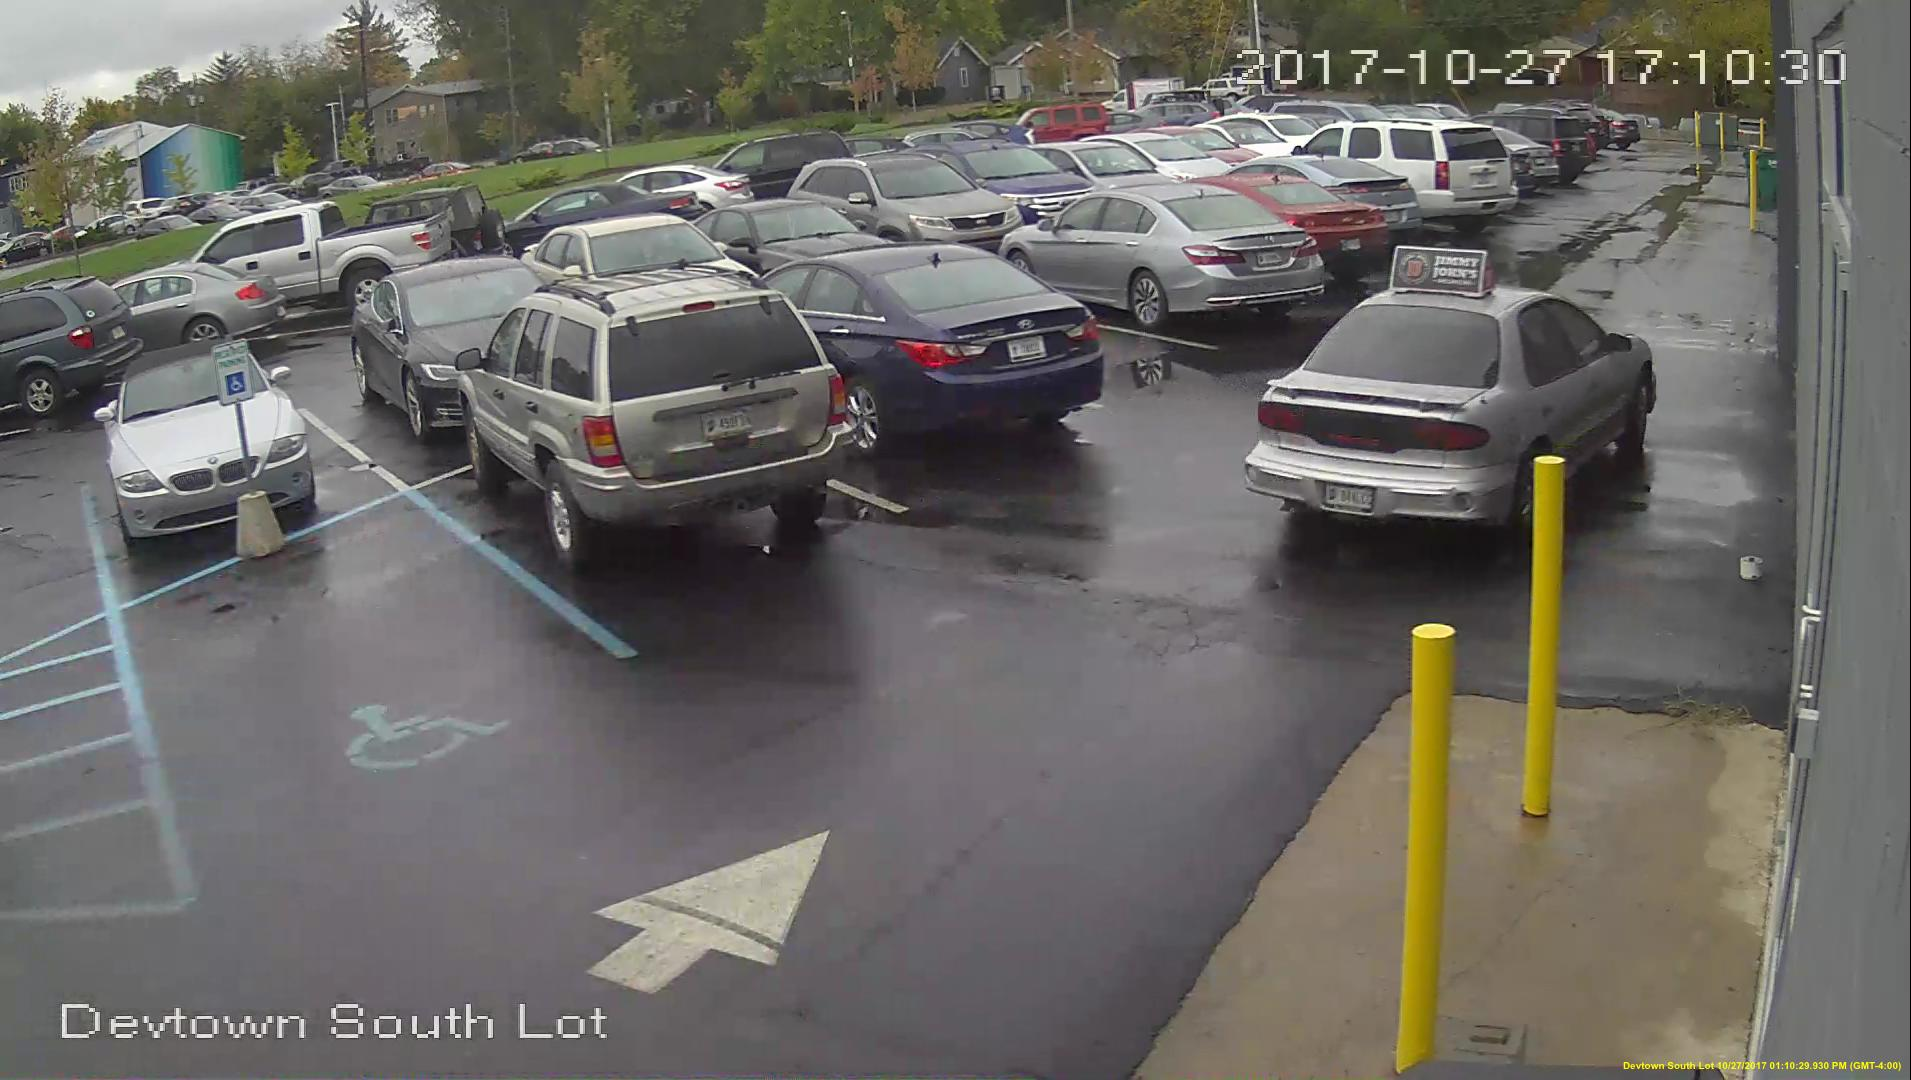jimmy_johns: (1386, 245, 1494, 298)
